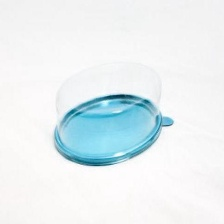plastic_box: (34, 54, 184, 173)
